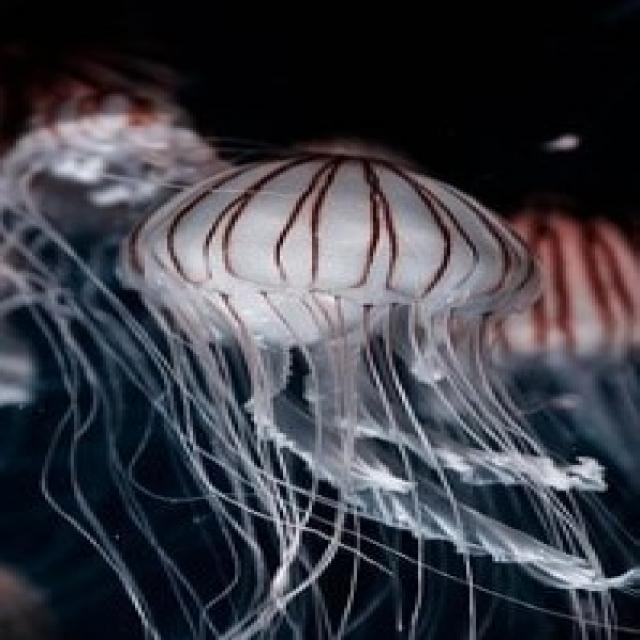Jellyfish: (140, 125, 530, 598), (11, 64, 200, 196)
